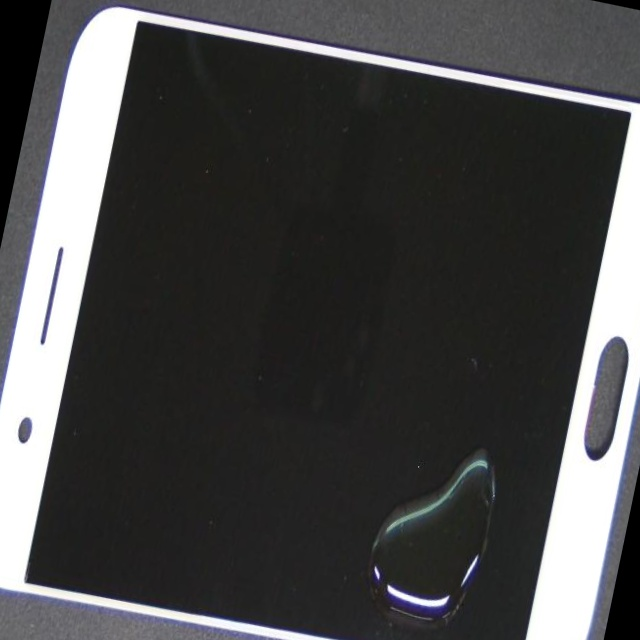oil: (202, 148, 640, 640)
